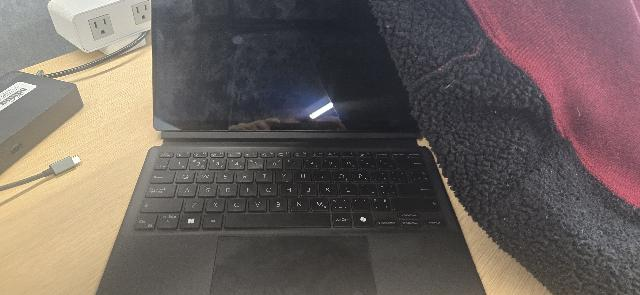Keyboard: (135, 152, 444, 230)
